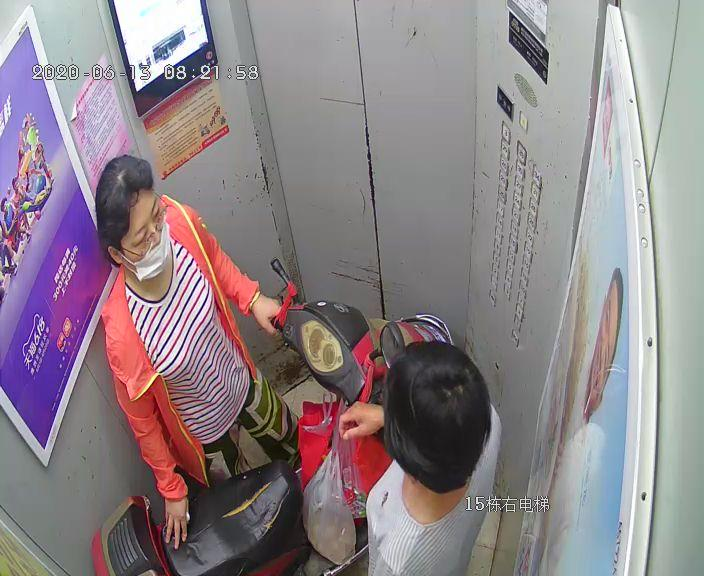Electric-bicycle: (88, 256, 460, 574)
